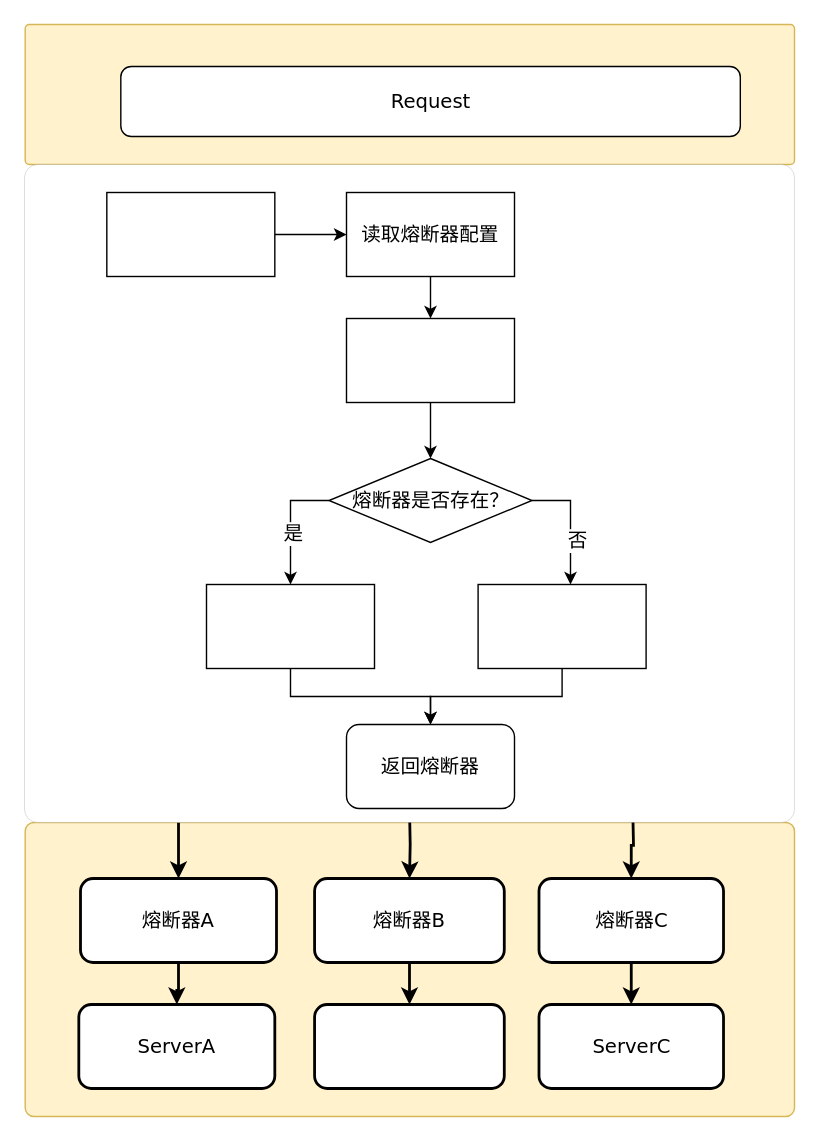
The diagram is 819 pixels wide and 1141 high, and some of its shapes have lost their labels. The shapes that lost their labels are listed below. From the top down, each one's centre as x and y in pixels, then its label:
pixel 190 233: Apollo配置中心
pixel 429 359: 读取RouteId作为熔断器Key
pixel 289 625: 从缓存中读取熔断器
pixel 561 625: 创建新的熔断器
pixel 408 1045: ServerB
